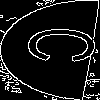C: (25, 25, 100, 66)
